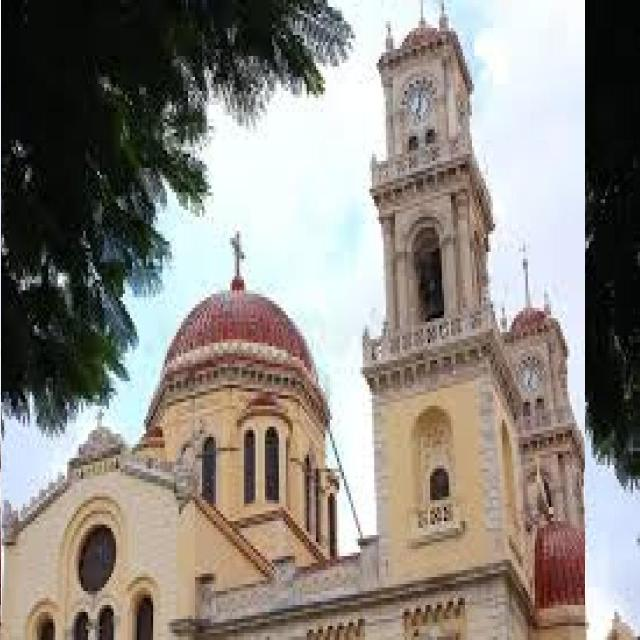Agios Minas: (2, 1, 586, 640)
